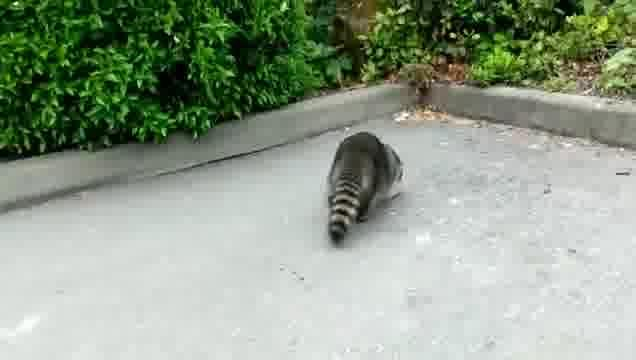raccoon: (325, 130, 406, 246)
